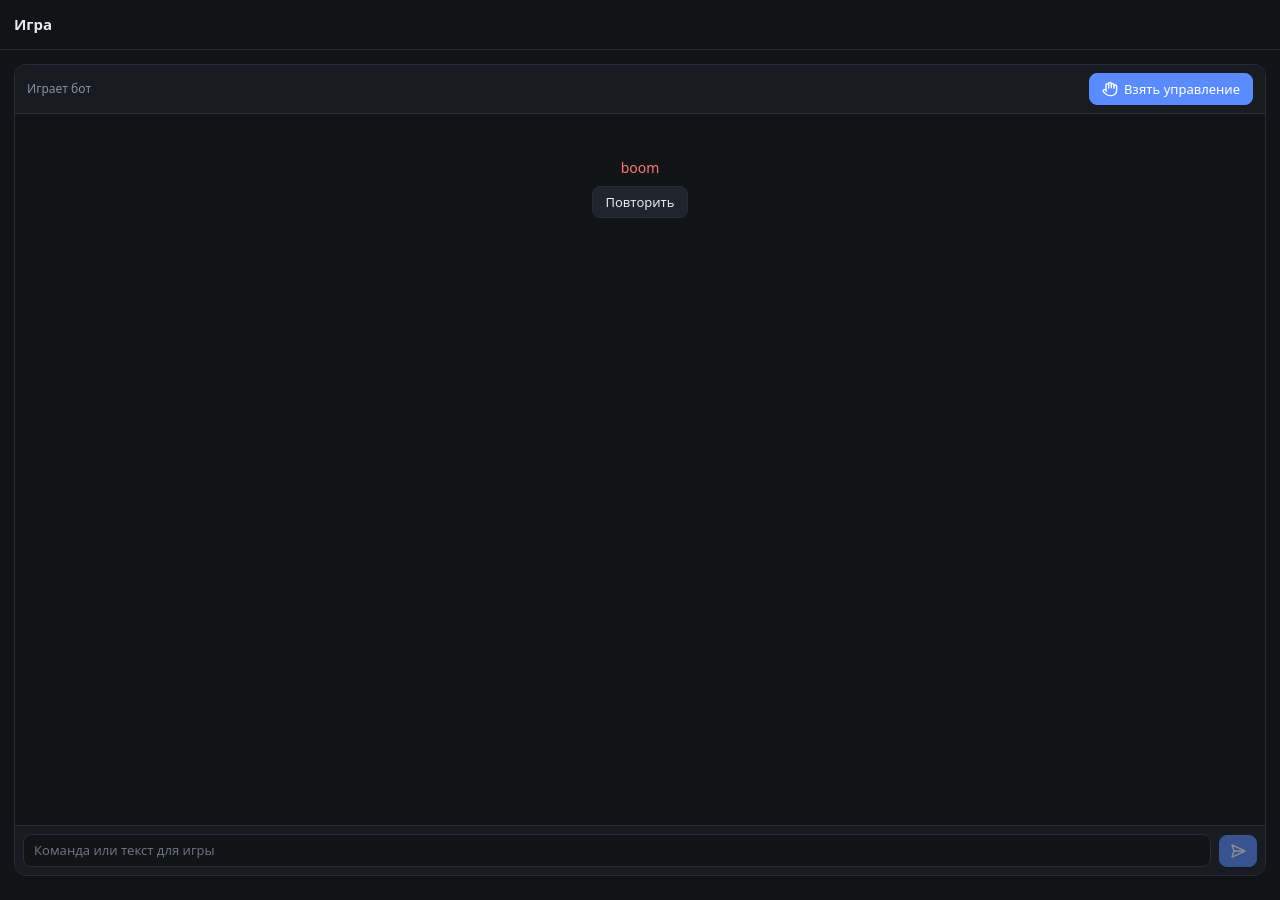
Test: Игра: чат › ошибка загрузки — текст и повтор
What coordinates should you click on to do the following:
click the button "Повторить"
I would click on:
 (640, 202)
Its box is [592,186,688,218].
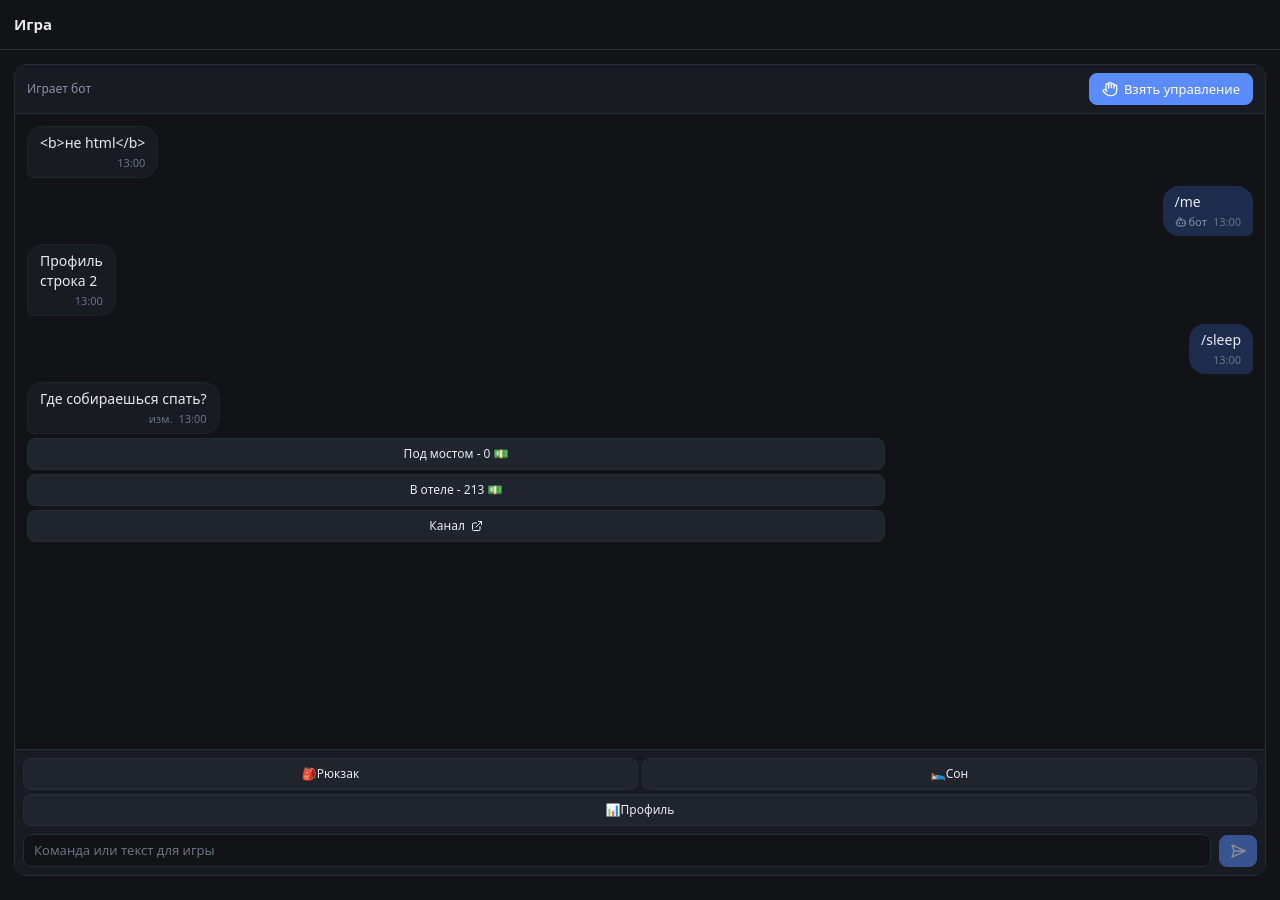
Now the text "Где собираешься спать?" is shown, box [40,389,206,409]
